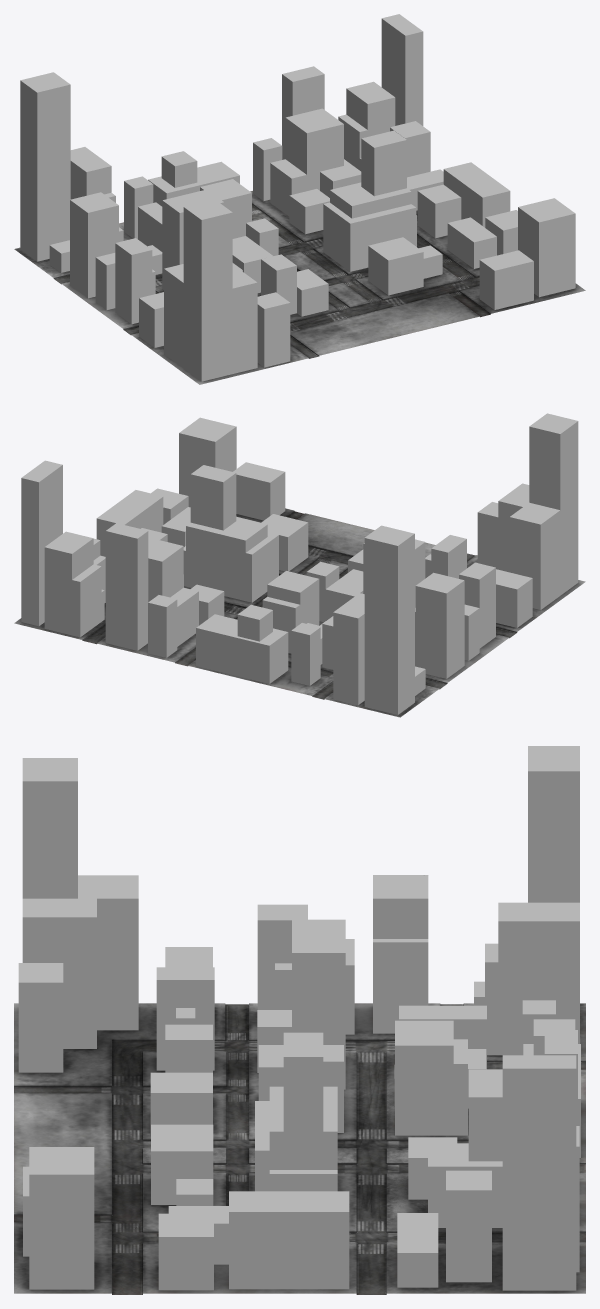
3 views of the same model, one above another, from view 1: azimuth 30°, elevation 25°; view 2: azimuth 150°, elevation 25°; view 3: azimuth 270°, elevation 25° (orthographic). The views are drawn at different scales.
Parts seen in each view (by area): view 1: Tiny_City; view 2: Tiny_City; view 3: Tiny_City.
Part boxes in pixels (x1,y1,x2,y2): Tiny_City: (14, 14, 585, 384); Tiny_City: (14, 413, 585, 717); Tiny_City: (14, 746, 585, 1294).
Size of the model in its own units: 2 by 0.8401 by 1.66.
